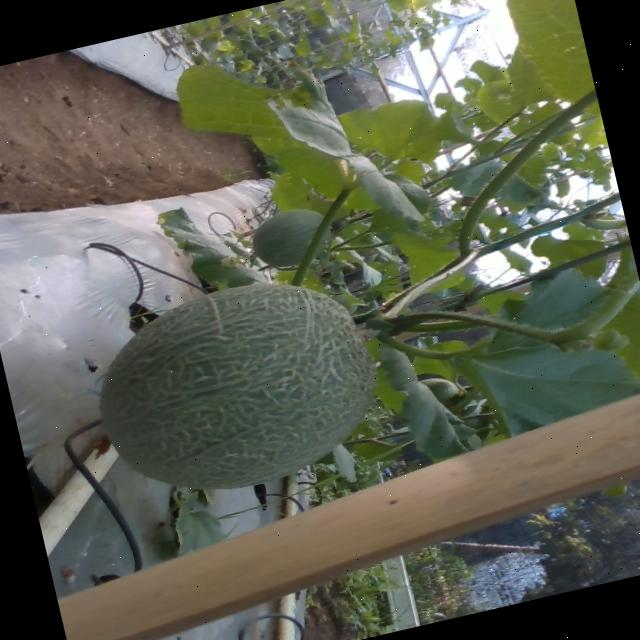melon: (98, 284, 375, 490)
